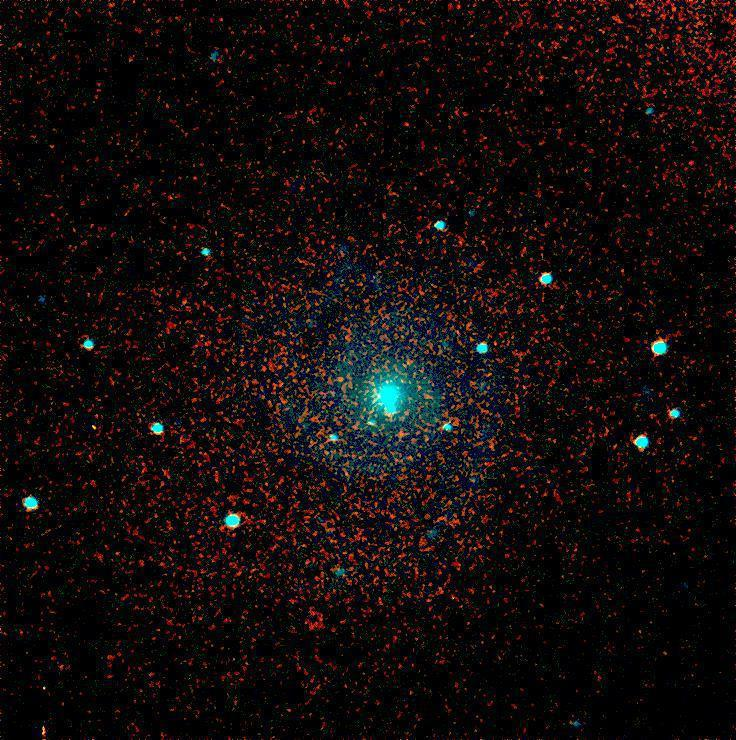star: (327, 358, 357, 388)
